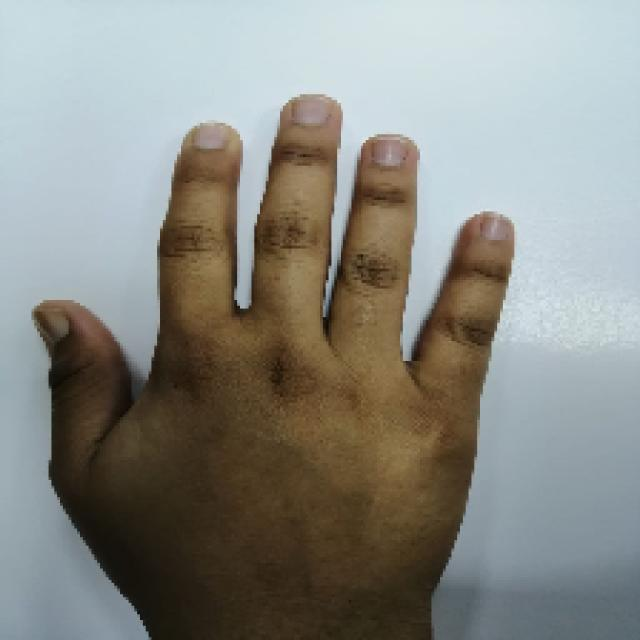Nail: (34, 307, 69, 344), (372, 134, 408, 167), (292, 95, 330, 126), (194, 120, 228, 149), (480, 212, 511, 240)
